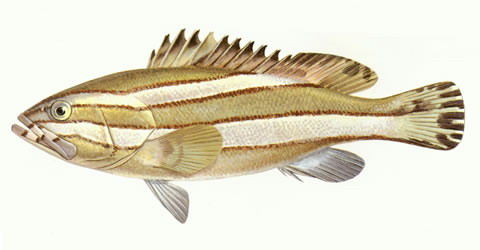fish: (11, 28, 465, 224)
